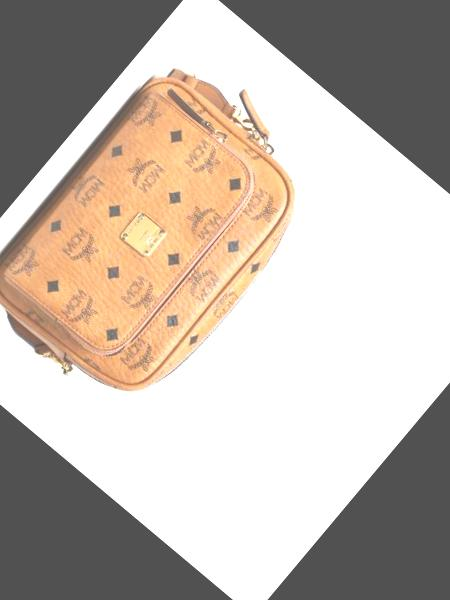MCM: (0, 51, 337, 426)
